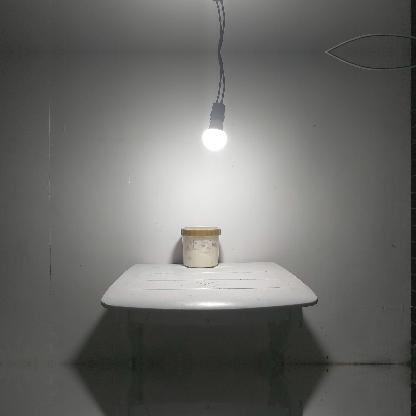Lady-s-Choice: (180, 226, 220, 268)
